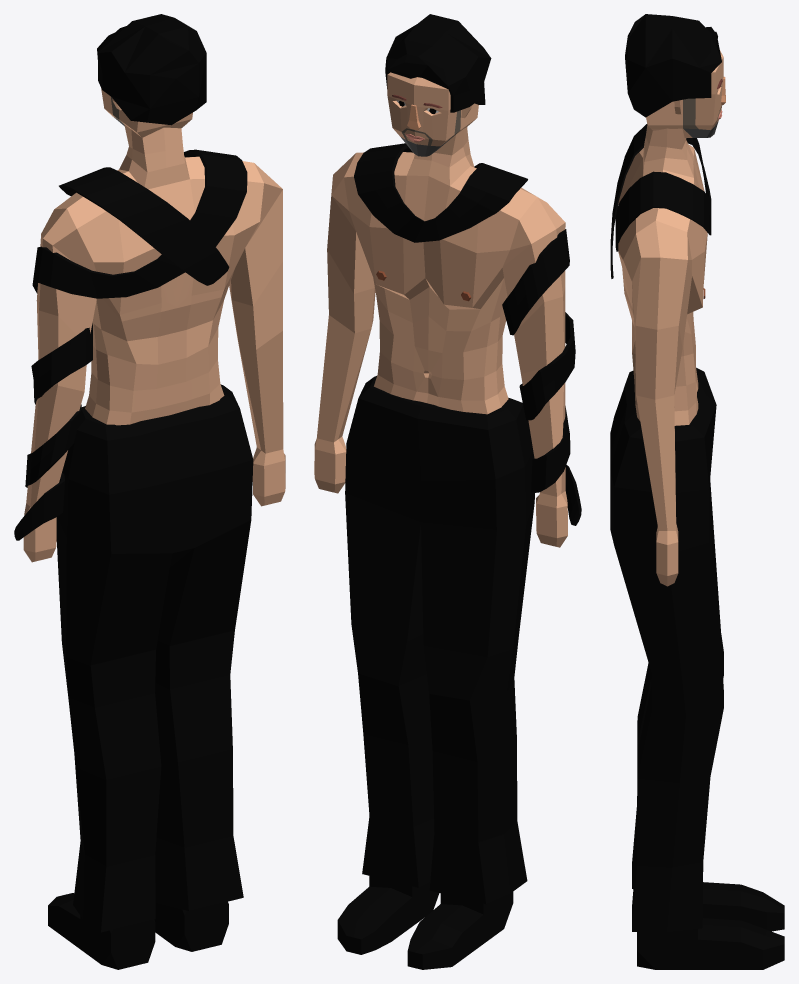
Rendered from durove.fbx.
3 renders of one model, left to right at view 1: azimuth 30°, elevation 25°; view 2: azimuth 150°, elevation 25°; view 3: azimuth 270°, elevation 25°, orthographic. The views are drawn at different scales.
Parts seen in each view (by area): view 1: Cube.018, Cube.017, Cube.020, Cube.010, Cube.019, Cube.009; view 2: Cube.018, Cube.017, Cube.020, Cube.019, Cube.010, Cube.009; view 3: Cube.018, Cube.017, Cube.019, Cube.010, Cube.020, Cube.009.
Part boxes in pixels (left/top/right/bottom): Cube.018: left=56, top=384, right=253, bottom=932; Cube.017: left=23, top=124, right=285, bottom=562; Cube.020: left=14, top=149, right=247, bottom=540; Cube.010: left=97, top=14, right=206, bottom=125; Cube.019: left=48, top=893, right=228, bottom=969; Cube.009: left=101, top=88, right=192, bottom=137; Cube.018: left=345, top=376, right=534, bottom=904; Cube.017: left=314, top=127, right=567, bottom=547; Cube.020: left=354, top=143, right=581, bottom=525; Cube.019: left=337, top=876, right=513, bottom=969; Cube.010: left=385, top=14, right=491, bottom=112; Cube.009: left=387, top=72, right=478, bottom=156; Cube.018: left=610, top=367, right=723, bottom=931; Cube.017: left=618, top=125, right=707, bottom=586; Cube.019: left=637, top=882, right=784, bottom=969; Cube.010: left=625, top=14, right=721, bottom=117; Cube.020: left=610, top=124, right=711, bottom=278; Cube.009: left=646, top=50, right=723, bottom=137.
Size of the model in its own units: 55.03 by 177 by 30.33.
